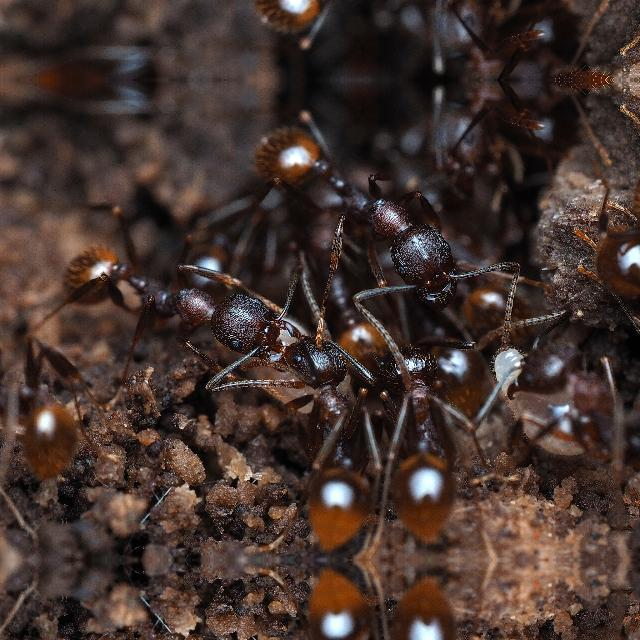Apheanogaster: (236, 114, 487, 300), (56, 230, 294, 370), (248, 306, 366, 544), (486, 326, 640, 502), (284, 195, 396, 378), (368, 332, 458, 544), (0, 284, 90, 486), (401, 80, 557, 178), (401, 0, 557, 80), (571, 204, 637, 380), (234, 0, 486, 46), (248, 574, 364, 640), (367, 574, 458, 640)
